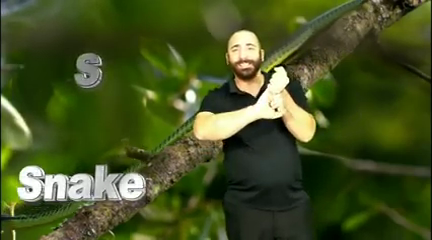S: (254, 62, 291, 124)
